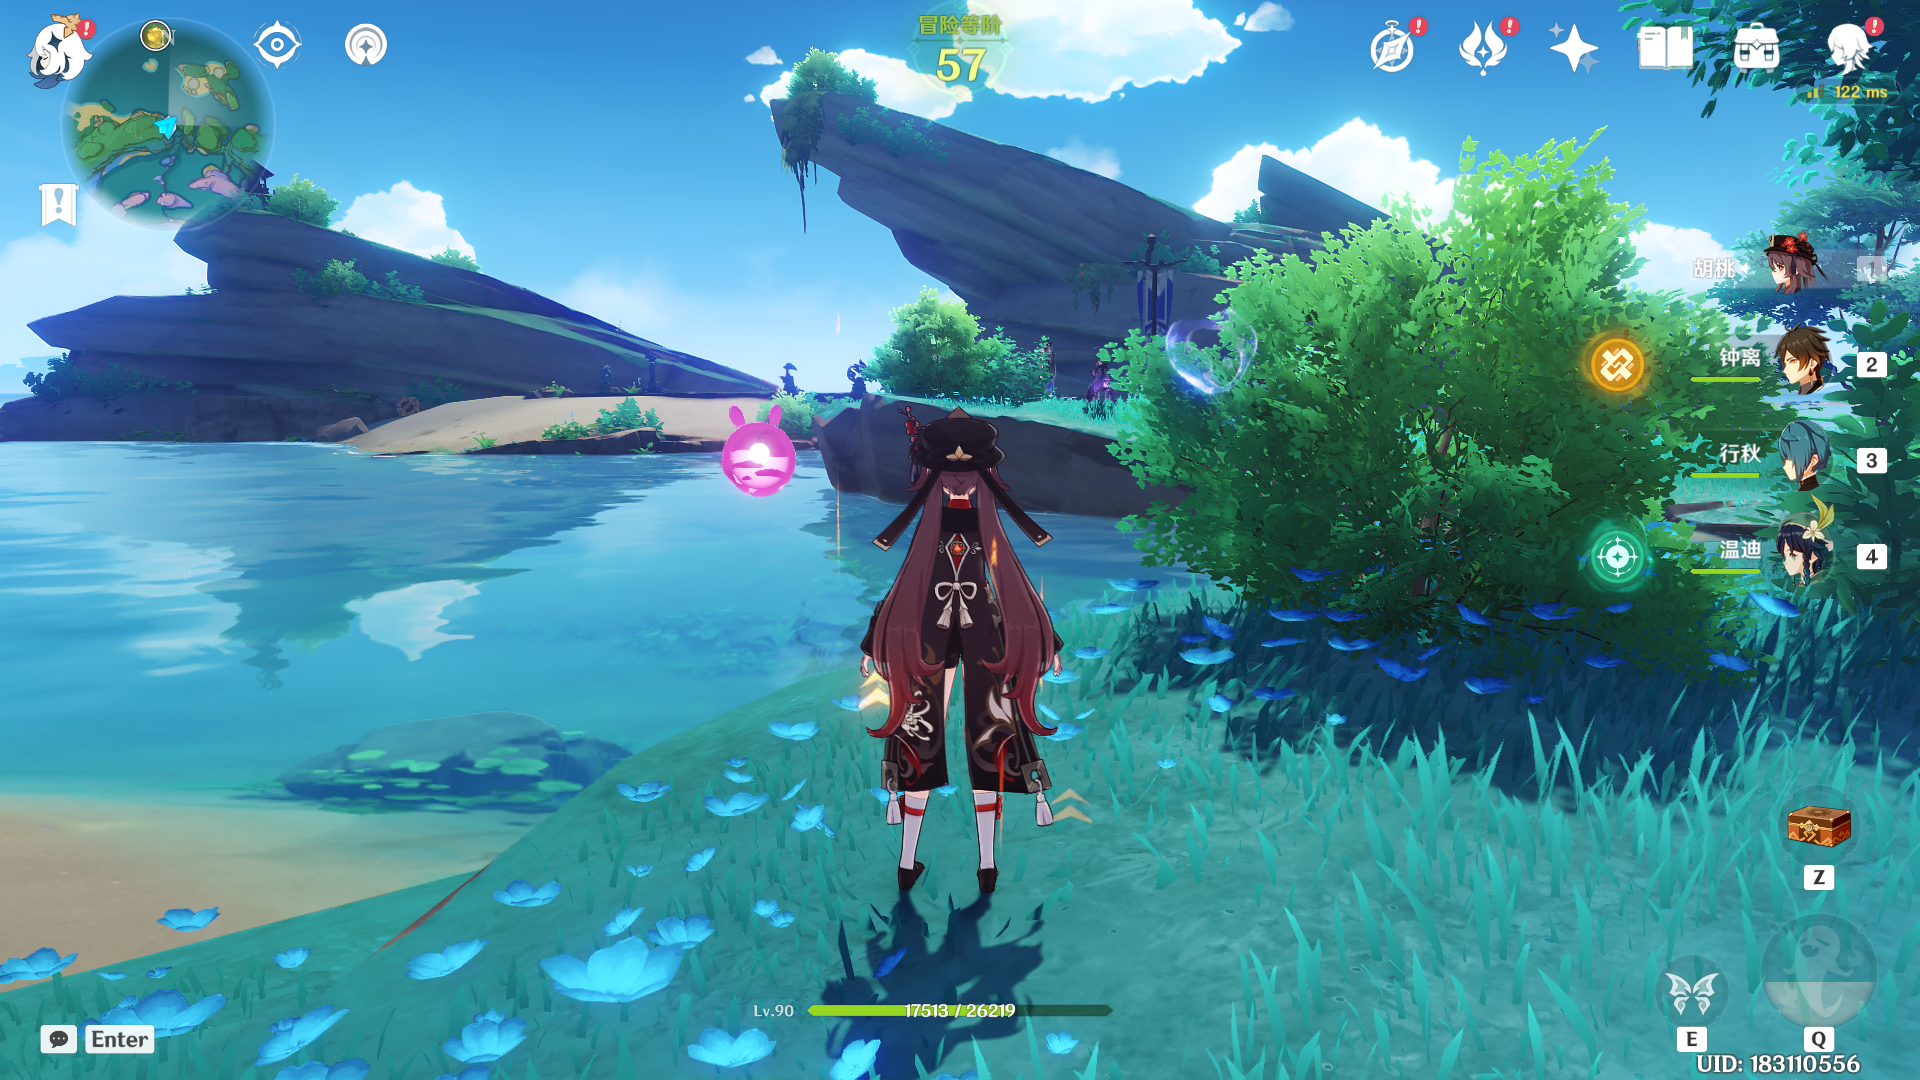character: (819, 392, 1104, 934)
